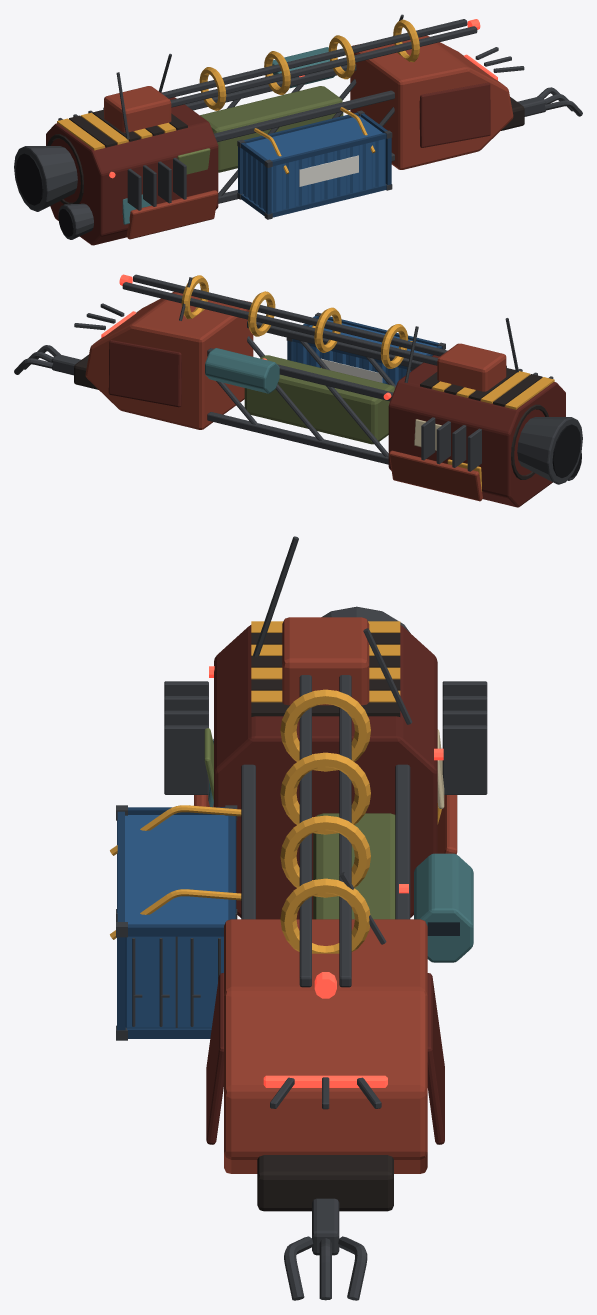
The model's file is nobody.glb.
3 renders of one model, top to bottom at view 1: azimuth 30°, elevation 25°; view 2: azimuth 150°, elevation 25°; view 3: azimuth 270°, elevation 25°, orthographic. The views are drawn at different scales.
Visible parts, largest first — view 1: hull body, drive body; view 2: hull body, drive body; view 3: hull body.
Boxes of the visible parts, left/top/right/bottom form: hull body: left=46, top=14, right=582, bottom=245; drive body: left=14, top=134, right=93, bottom=239; hull body: left=14, top=274, right=565, bottom=507; drive body: left=511, top=404, right=582, bottom=484; hull body: left=110, top=536, right=487, bottom=1300.
Size of the model in its own units: 10.01 by 2.78 by 3.04.
